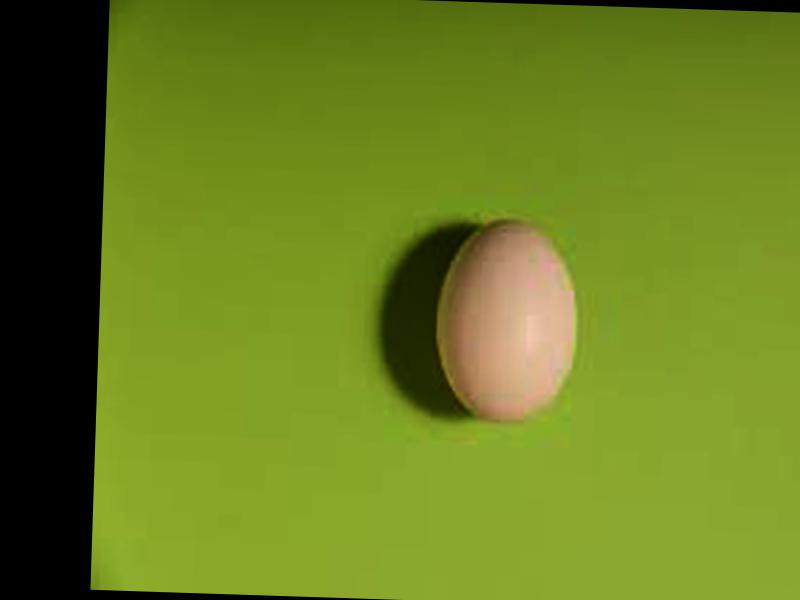Eggs: (433, 213, 576, 424)
